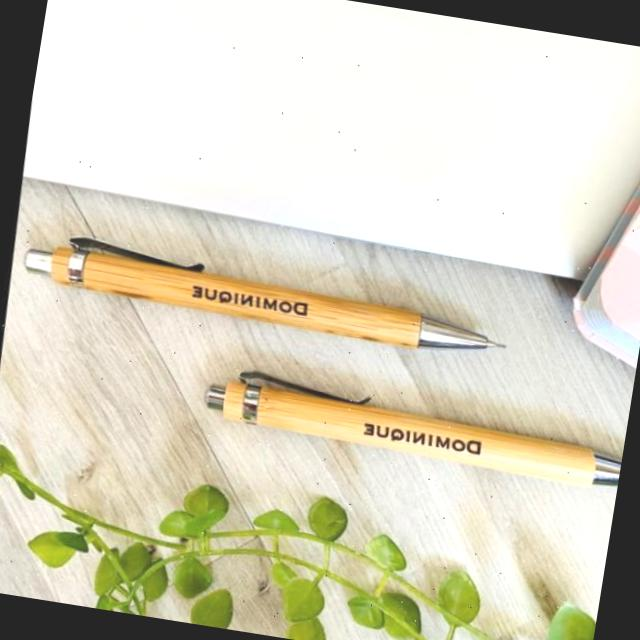Pen - Non Recyclable: (13, 224, 510, 368), (193, 358, 628, 494)
